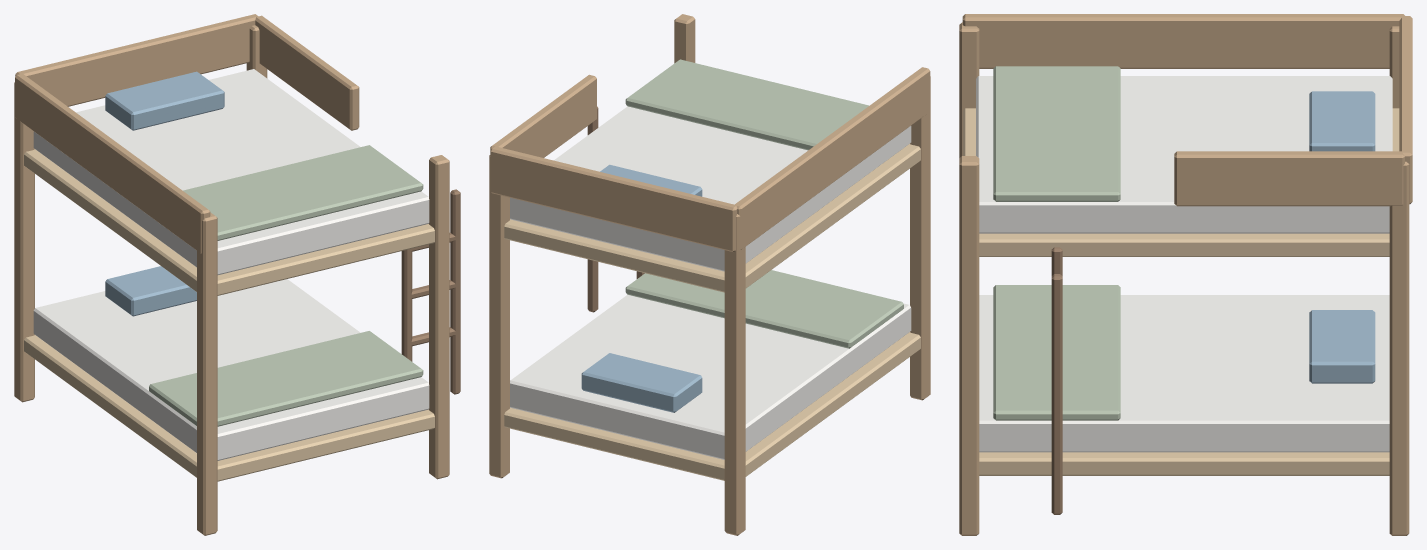
File: BunkBed.glb
3 renders of one model, left to right at view 1: azimuth 30°, elevation 25°; view 2: azimuth 150°, elevation 25°; view 3: azimuth 270°, elevation 25°, orthographic. The views are drawn at different scales.
Visible parts, largest first — view 1: SpaceSaver_BunkBed; view 2: SpaceSaver_BunkBed; view 3: SpaceSaver_BunkBed.
Part boxes in pixels (<box>): SpaceSaver_BunkBed: <box>14,14,460,535</box>; SpaceSaver_BunkBed: <box>489,14,930,535</box>; SpaceSaver_BunkBed: <box>959,14,1412,535</box>.
Bounding box in the file's own units: 1.84 × 1.92 × 2.07.
